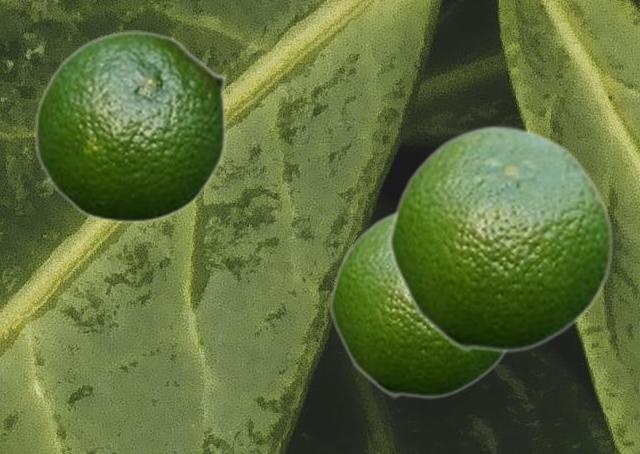calamansi: (387, 123, 613, 352), (34, 30, 227, 223), (328, 208, 509, 398)
